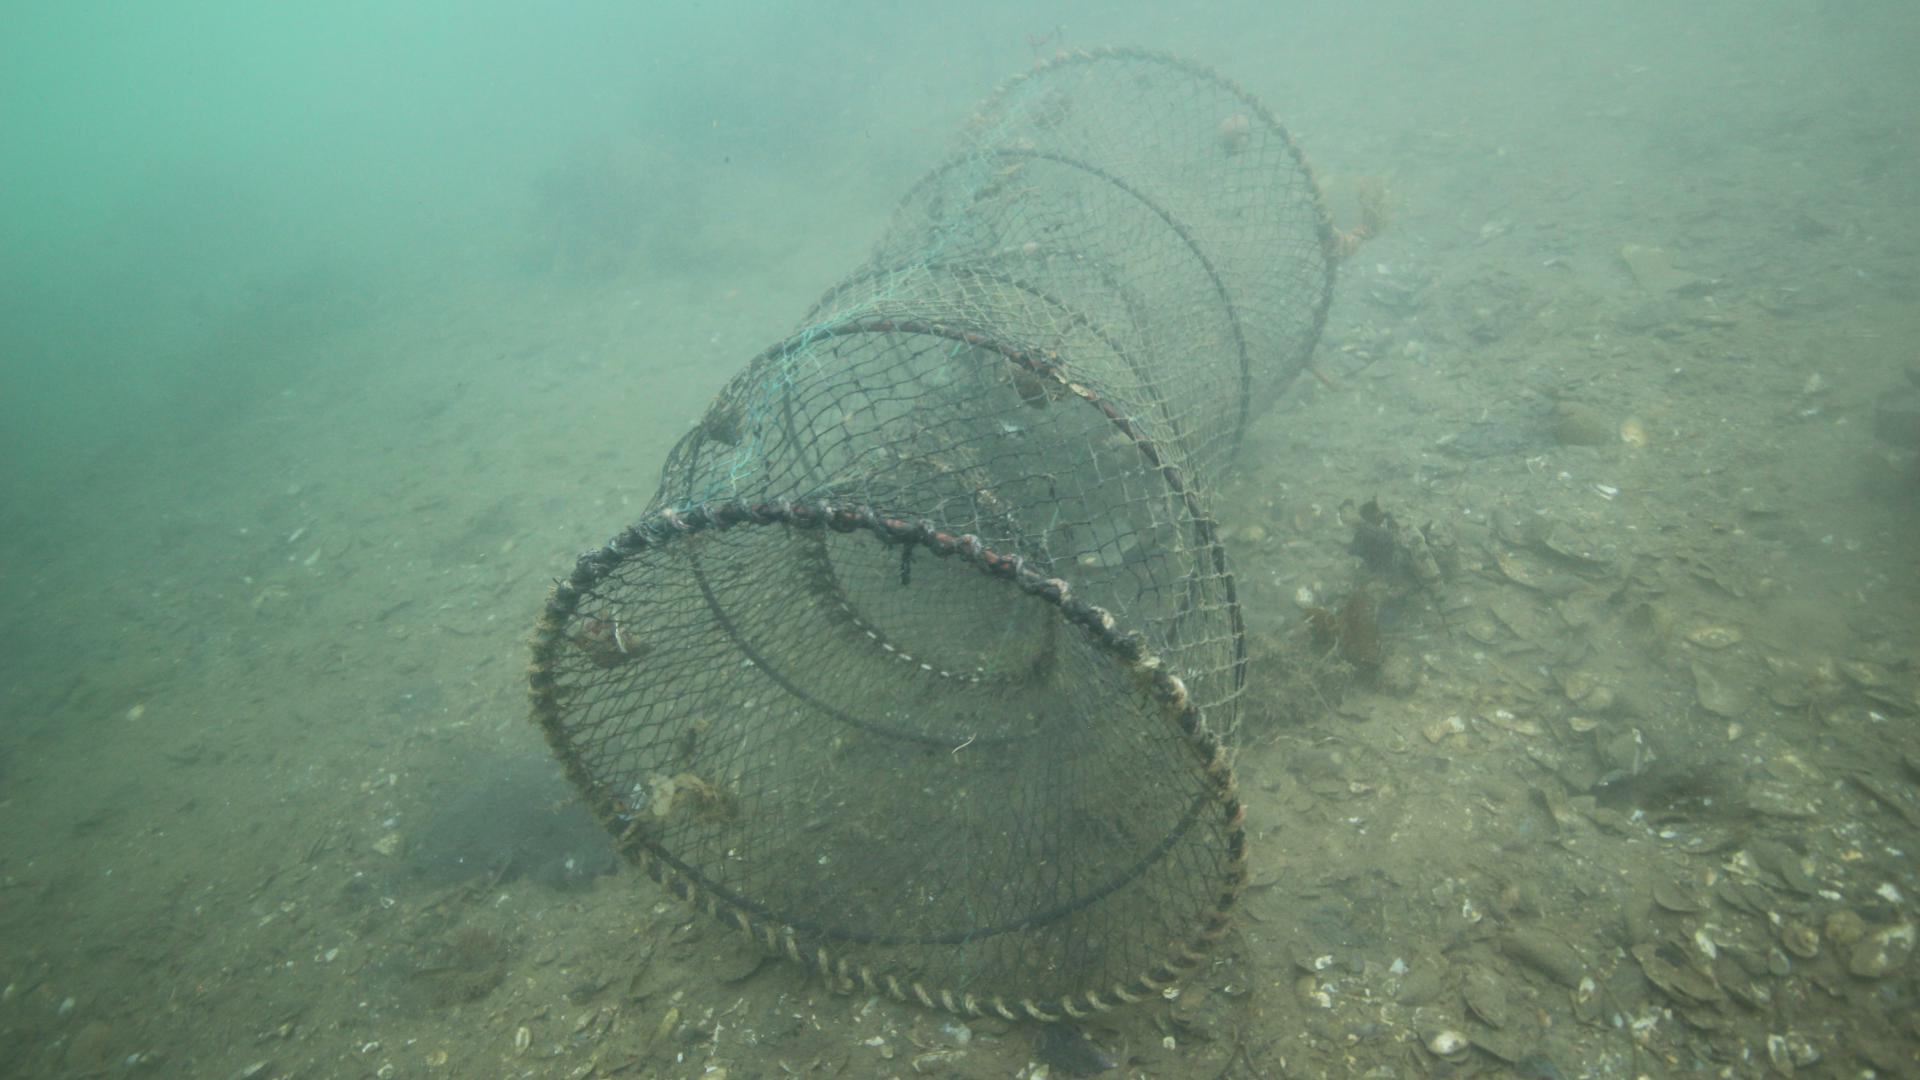spring fish trap: (527, 47, 1337, 1029)
